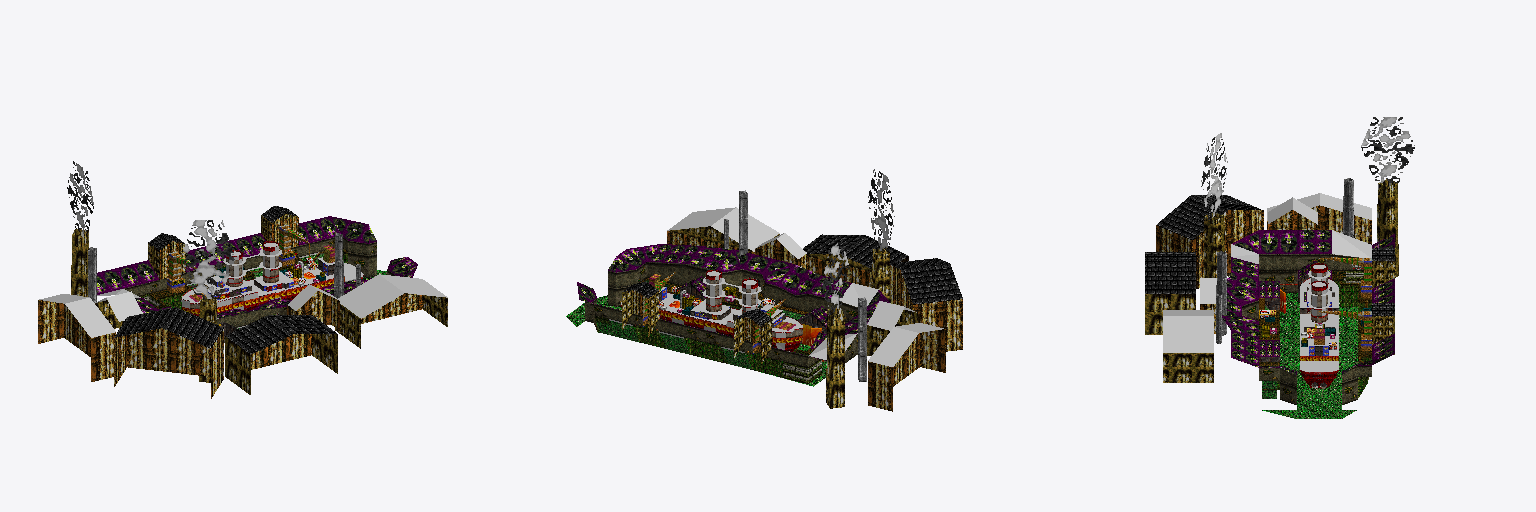
The picture shows the model from 3 angles: view 1: azimuth 30°, elevation 25°; view 2: azimuth 150°, elevation 25°; view 3: azimuth 270°, elevation 25°; orthographic projection.
Parts seen in each view (by area): view 1: material_6, material_3, material_1, material_5, material_0, material_4, material_7, material_9, material_63, material_2, material_8, material_12; view 2: material_1, material_6, material_3, material_0, material_5, material_9, material_4, material_8, material_7, material_2, material_26, material_25 (+4 smaller); view 3: material_1, material_3, material_0, material_5, material_10, material_6, material_7, material_8, material_63, material_2, material_9, material_27 (+1 smaller).
Part boxes in pixels (bbox=[...]): material_6: bbox=[38, 291, 339, 398]; material_3: bbox=[71, 214, 447, 394]; material_1: bbox=[97, 216, 417, 318]; material_5: bbox=[114, 206, 336, 354]; material_0: bbox=[39, 274, 447, 337]; material_4: bbox=[160, 217, 422, 369]; material_7: bbox=[67, 161, 234, 298]; material_9: bbox=[124, 237, 376, 328]; material_63: bbox=[182, 249, 363, 303]; material_2: bbox=[88, 233, 360, 302]; material_8: bbox=[149, 237, 395, 314]; material_12: bbox=[175, 250, 344, 313]; material_1: bbox=[577, 244, 889, 360]; material_6: bbox=[755, 239, 962, 411]; material_3: bbox=[622, 226, 917, 408]; material_0: bbox=[667, 207, 943, 366]; material_5: bbox=[623, 234, 962, 325]; material_9: bbox=[585, 262, 847, 367]; material_4: bbox=[633, 231, 871, 342]; material_8: bbox=[590, 262, 857, 362]; material_7: bbox=[822, 169, 894, 314]; material_2: bbox=[724, 190, 866, 381]; material_26: bbox=[597, 327, 782, 376]; material_25: bbox=[595, 310, 822, 373]; material_1: bbox=[1222, 230, 1394, 374]; material_3: bbox=[1145, 179, 1398, 382]; material_0: bbox=[1163, 193, 1371, 352]; material_5: bbox=[1145, 195, 1394, 315]; material_10: bbox=[1262, 293, 1357, 418]; material_6: bbox=[1156, 205, 1371, 333]; material_7: bbox=[1201, 117, 1414, 219]; material_8: bbox=[1242, 254, 1357, 404]; material_63: bbox=[1300, 271, 1338, 371]; material_2: bbox=[1216, 178, 1353, 343]; material_9: bbox=[1259, 254, 1371, 386]; material_27: bbox=[1257, 271, 1371, 365].
Bounding box in the file's own units: 28300 × 12638 × 19385.
Materials: 73 (67 with a texture image).